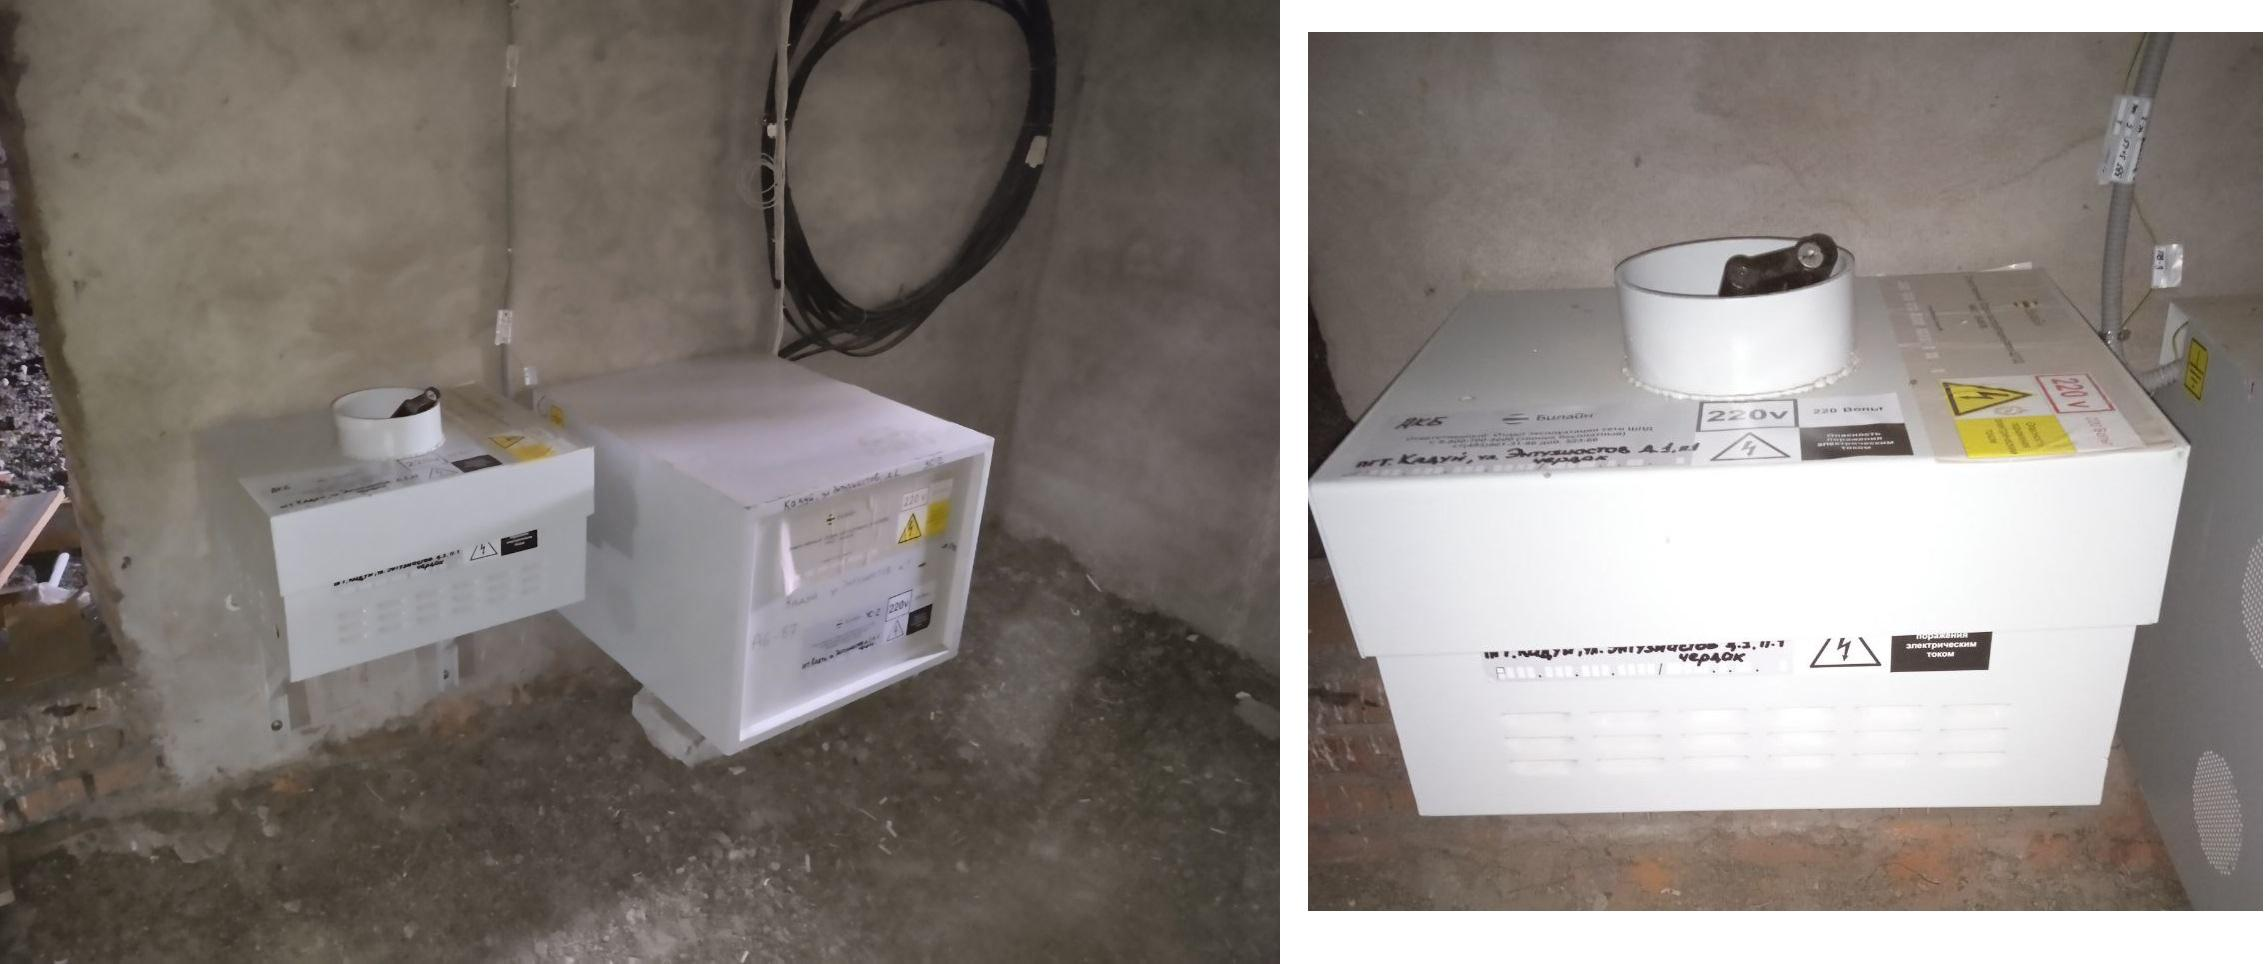shta-9m: (531, 339, 1002, 766)
shta-ps: (1309, 224, 2201, 824), (178, 372, 605, 690)
